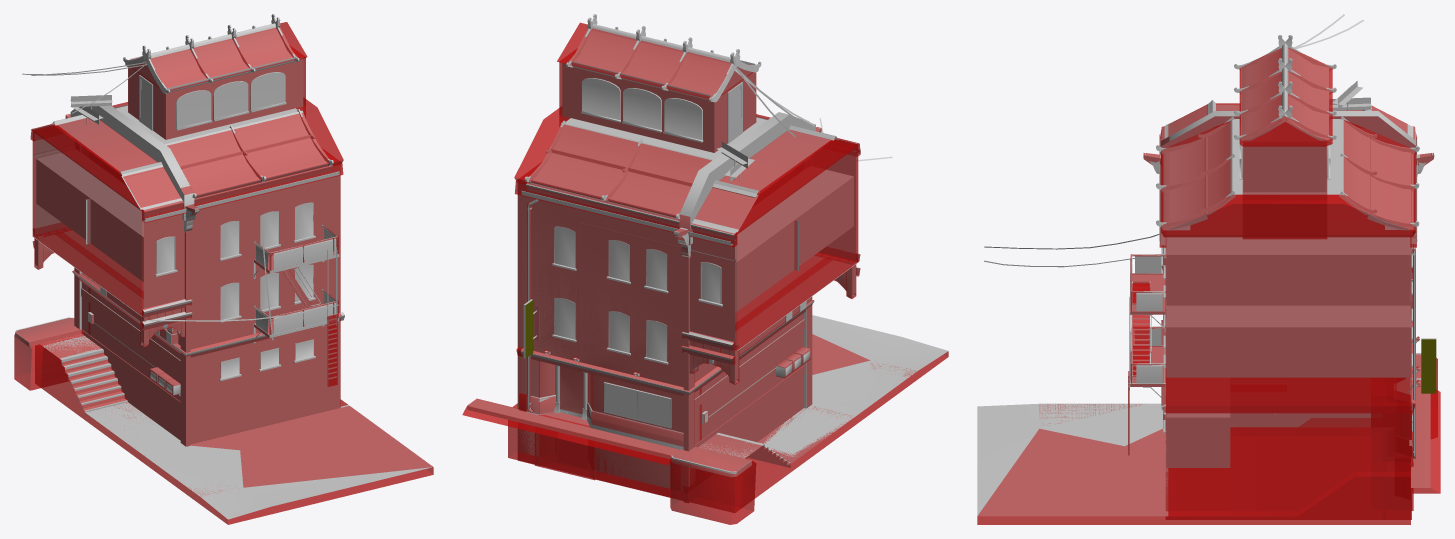
The model's file is CT_building_026.dae.
The picture shows the model from 3 angles, left to right: view 1: azimuth 30°, elevation 25°; view 2: azimuth 150°, elevation 25°; view 3: azimuth 270°, elevation 25°; orthographic projection. The views are drawn at different scales.
Parts seen in each view (by area): view 1: colmesh-2, _026_building100, _026_building400, _026_building800; view 2: colmesh-2, _026_building100, _026_building400, _026_building800; view 3: colmesh-2, _026_building400, _026_building100, _026_building800.
Part boxes in pixels (x1,y1,x2,y2): colmesh-2: (14,22,433,524); _026_building100: (15,17,432,519); _026_building400: (32,18,344,443); _026_building800: (34,14,357,455); colmesh-2: (462,22,948,524); _026_building100: (467,17,948,491); _026_building400: (518,21,859,487); _026_building800: (520,14,860,461); colmesh-2: (977,48,1440,524); _026_building400: (1128,35,1433,467); _026_building100: (977,14,1436,516); _026_building800: (1128,35,1434,516).
Bounding box in the file's own units: 161 × 209 × 216.
